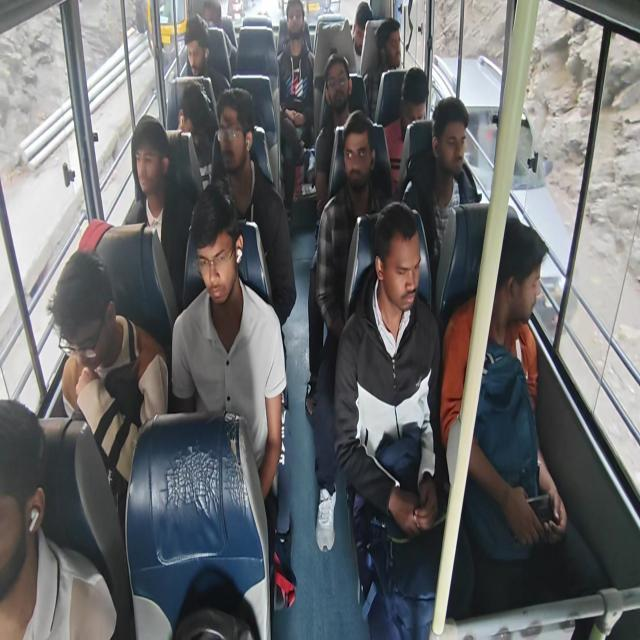person: (333, 200, 474, 638), (170, 182, 295, 610), (440, 214, 568, 610), (306, 109, 391, 552), (47, 249, 168, 530), (0, 397, 117, 638), (210, 87, 296, 333), (405, 96, 479, 286), (123, 114, 193, 306), (276, 0, 314, 209), (167, 14, 230, 130), (314, 53, 356, 224), (383, 66, 429, 194), (176, 80, 218, 186), (363, 17, 402, 119), (202, 0, 238, 75), (352, 1, 372, 73)
